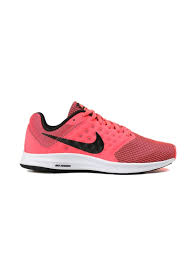nike: (41, 131, 106, 155)
